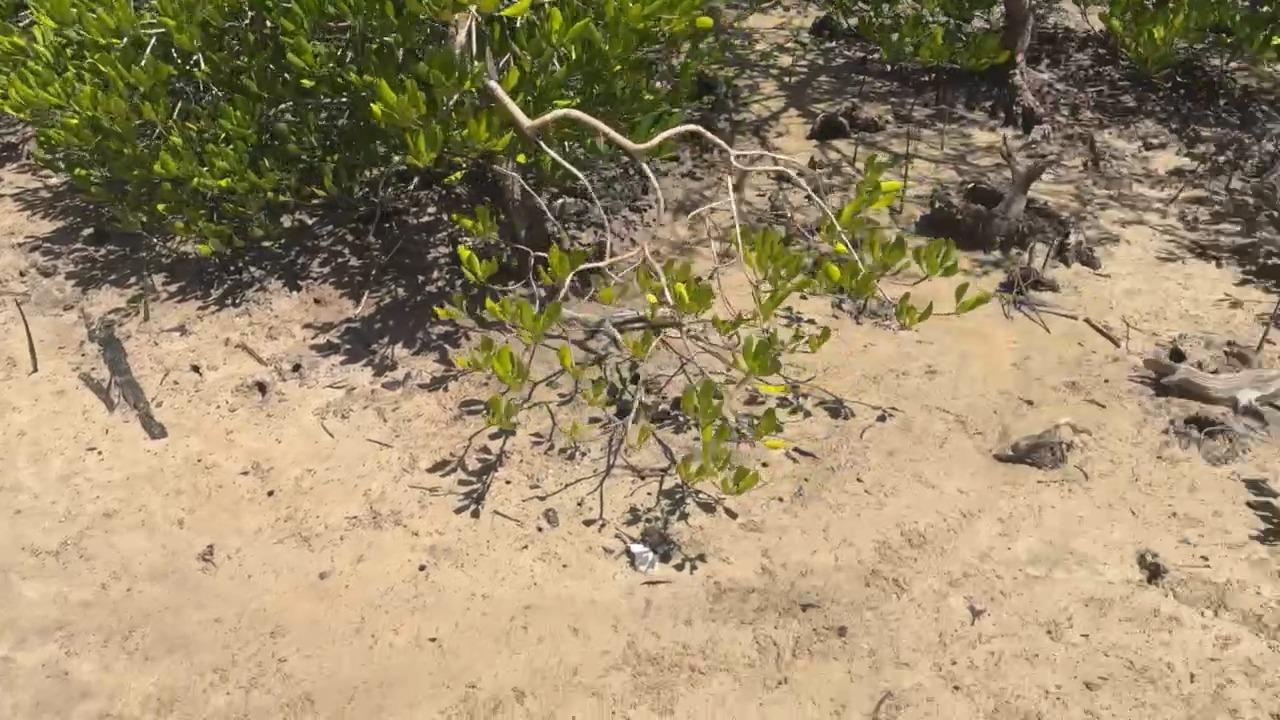Tree: (13, 296, 39, 372), (1255, 299, 1280, 353), (898, 126, 909, 216), (939, 92, 946, 151), (853, 130, 859, 169)
